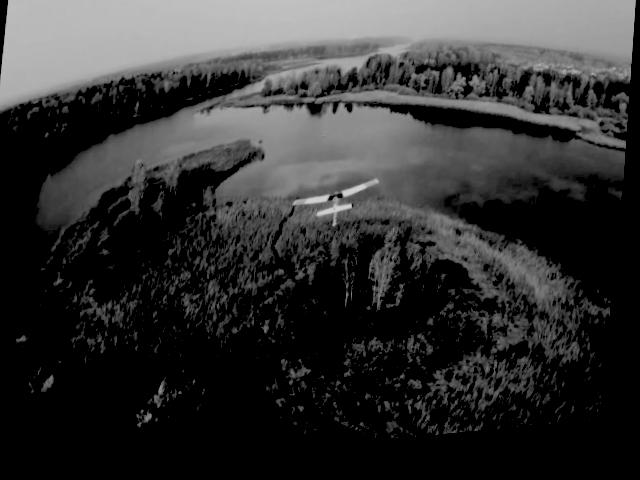hedef: (289, 176, 386, 239)
